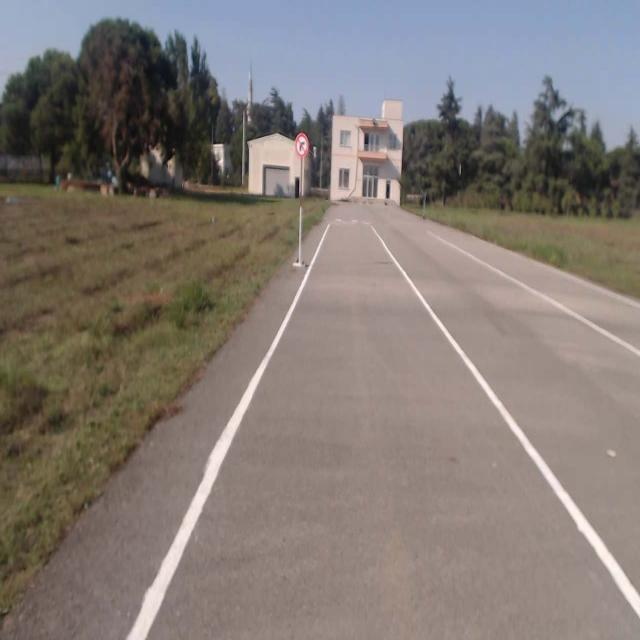sagadonulmez: (295, 131, 308, 158)
